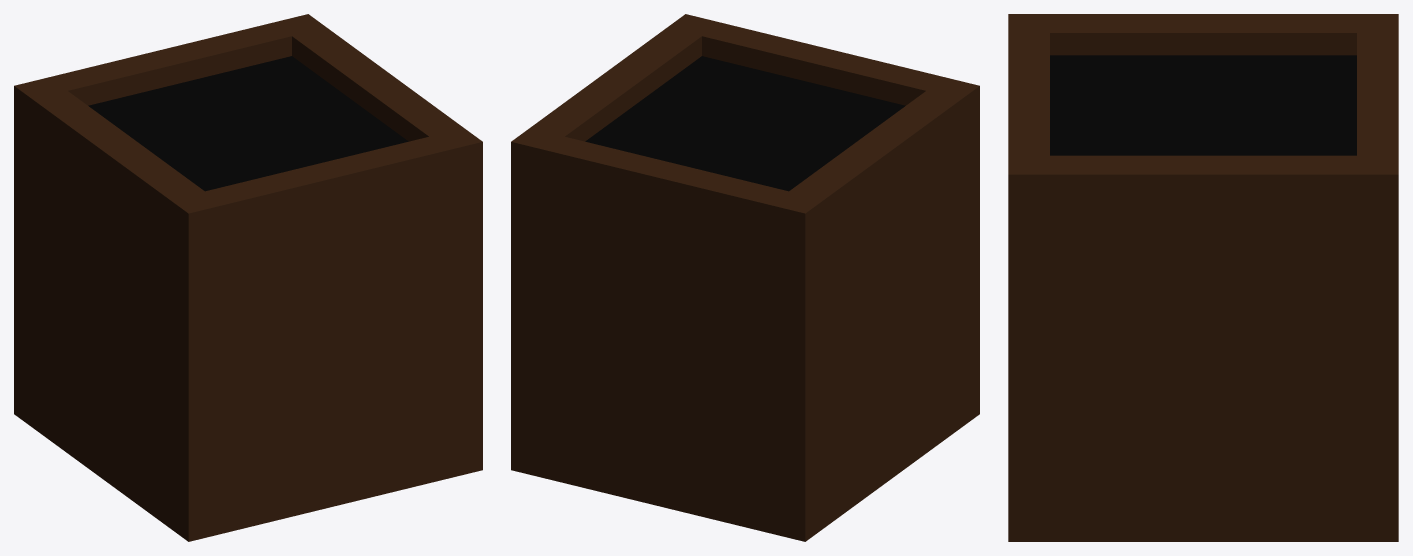
The model's file is pot.fbx.
3 renders of one model, left to right at view 1: azimuth 30°, elevation 25°; view 2: azimuth 150°, elevation 25°; view 3: azimuth 270°, elevation 25°, orthographic. The views are drawn at different scales.
Parts seen in each view (by area): view 1: root (×6); view 2: root (×6); view 3: root (×5).
Part boxes in pixels (left/top/right/bottom): root (×6): left=14, top=14, right=482, bottom=541; root (×6): left=511, top=14, right=979, bottom=541; root (×5): left=1008, top=14, right=1398, bottom=541.
Size of the model in its own units: 0.1183 by 0.1262 by 0.1216.
Materials: 2 (1 with a texture image).
